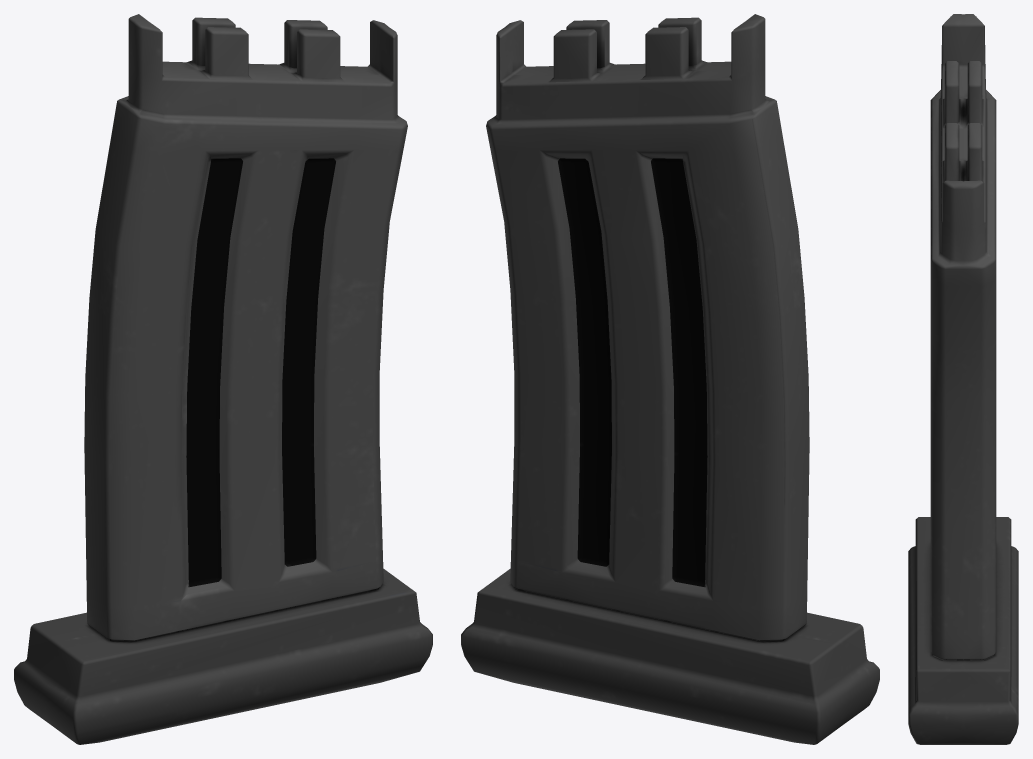
Rendered from UPF_DMR_Mag.fbx.
3 renders of one model, left to right at view 1: azimuth 30°, elevation 25°; view 2: azimuth 150°, elevation 25°; view 3: azimuth 270°, elevation 25°, orthographic. The views are drawn at different scales.
Visible parts, largest first — view 1: DMR_Mag; view 2: DMR_Mag; view 3: DMR_Mag.
Part boxes in pixels (<box>): DMR_Mag: <box>14,14,432,744</box>; DMR_Mag: <box>461,14,879,744</box>; DMR_Mag: <box>908,14,1018,744</box>.
Bounding box in the file's own units: 10.21 × 3.05 × 19.1.
Materials: 1 (1 with a texture image).
